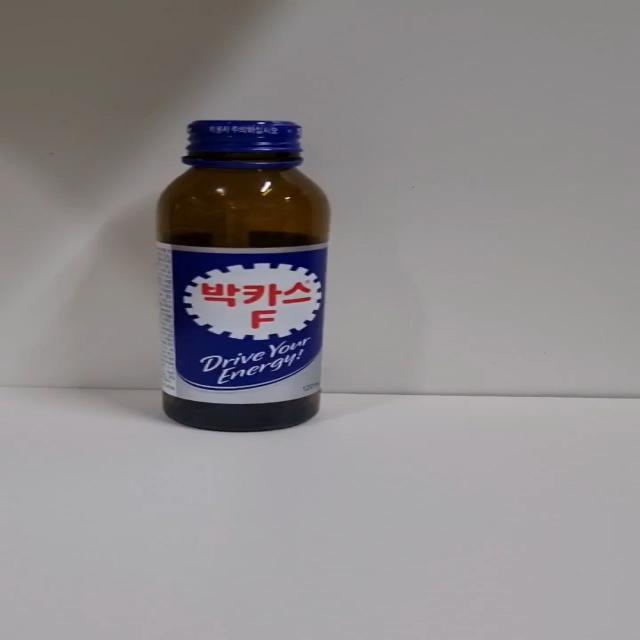Glass: (153, 120, 332, 435)
